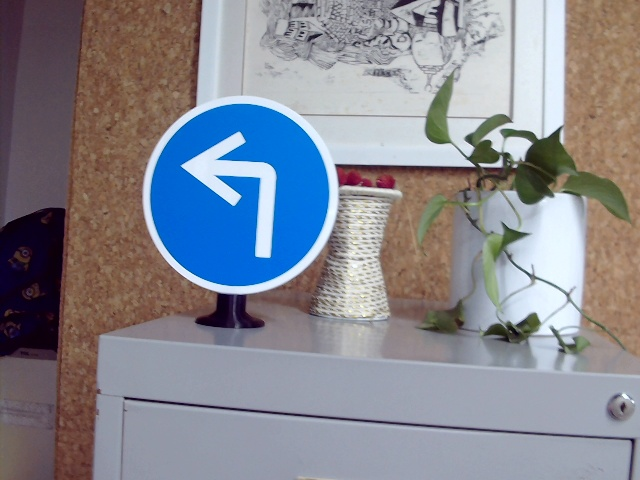turn_left: (183, 128, 286, 257)
